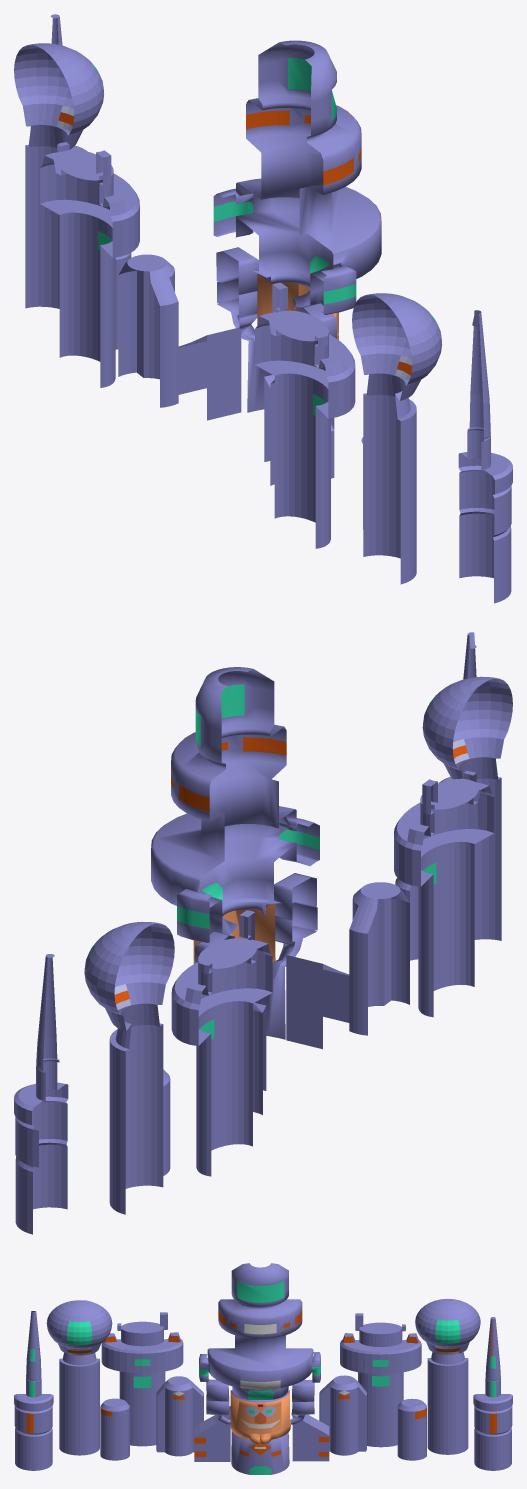
File: Sigman Palace.fbx
The picture shows the model from 3 angles, top to bottom: view 1: azimuth 30°, elevation 25°; view 2: azimuth 150°, elevation 25°; view 3: azimuth 270°, elevation 25°; orthographic projection. The views are drawn at different scales.
Parts seen in each view (by area): view 1: Cubo; view 2: Cubo; view 3: Cubo.
Boxes of the visible parts, left/top/right/bottom form: Cubo: left=14, top=14, right=512, bottom=603; Cubo: left=14, top=632, right=512, bottom=1234; Cubo: left=14, top=1263, right=512, bottom=1474.
Size of the model in its own units: 11118 by 20261 by 44282.
